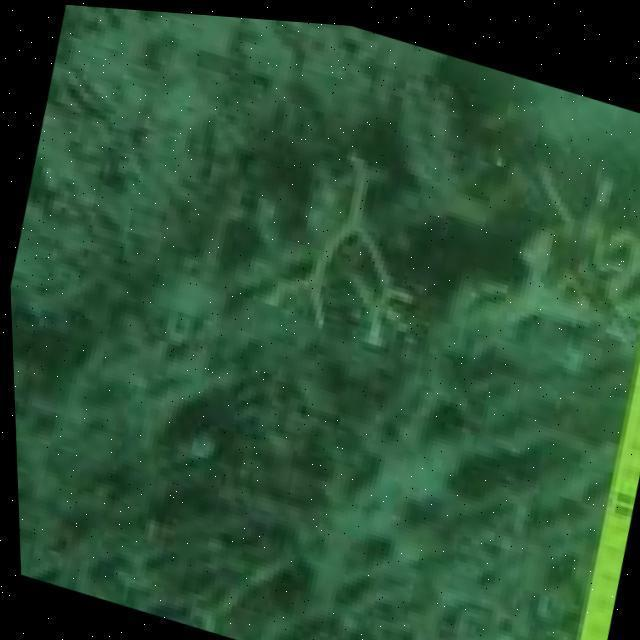Bleached Coral: (293, 156, 640, 354)
